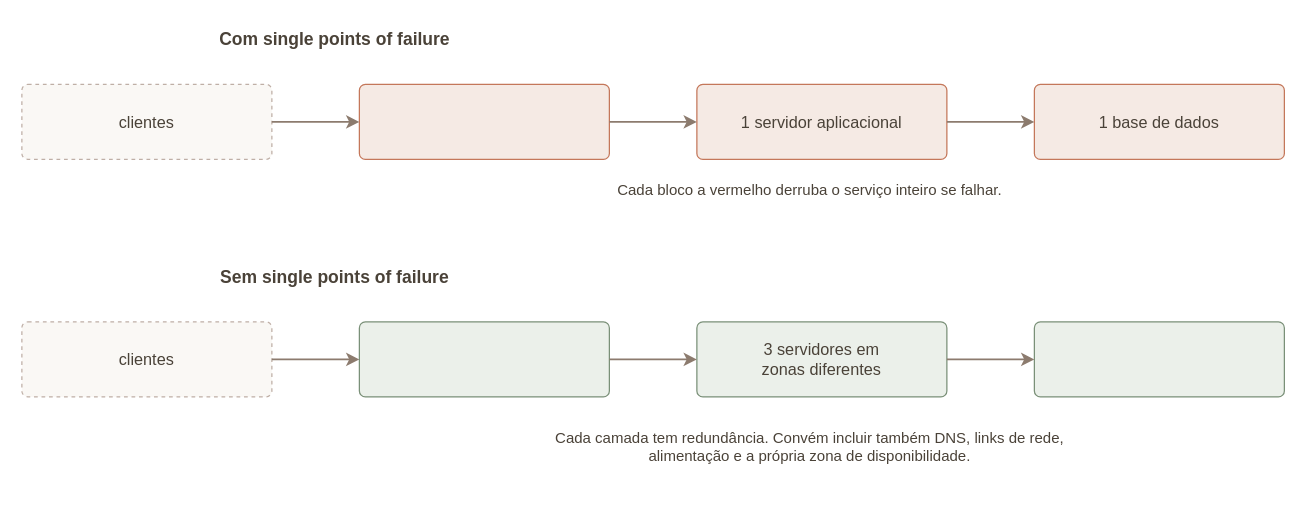
Some shapes in this 1306 by 505 pixel diagram are drawn without their labels. The shapes that lost their labels are listed below. From the top down, each one's box as (x1, y1, x2, y2) in pixels, then its label:
(358, 83, 609, 159): 1 load balancer
(358, 321, 609, 397): 2 load balancers
(1033, 321, 1284, 397): primária e replica de dados
